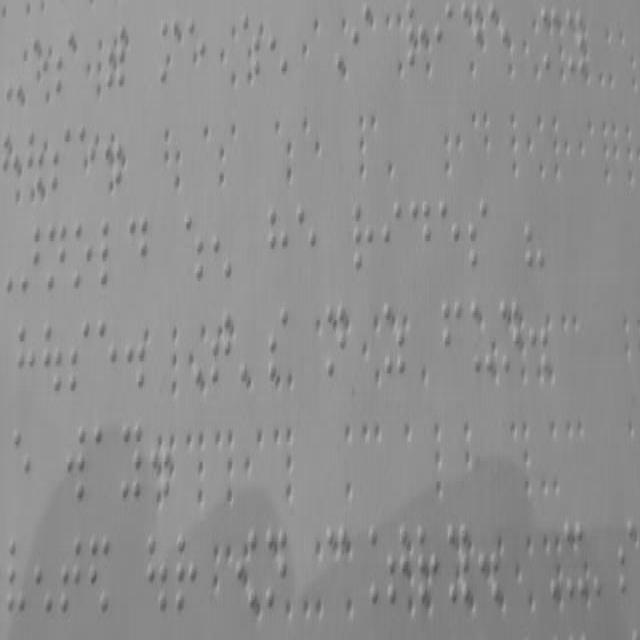braiile: (323, 526, 351, 616), (124, 209, 152, 298), (414, 520, 440, 609), (446, 520, 472, 609), (94, 417, 118, 512), (385, 523, 411, 610), (174, 526, 198, 616), (264, 524, 288, 614), (351, 192, 377, 274), (10, 424, 36, 506), (466, 195, 492, 276), (59, 528, 82, 619), (296, 195, 320, 282), (408, 190, 432, 276), (120, 416, 142, 508), (64, 420, 88, 504), (99, 208, 121, 299), (436, 195, 462, 272), (266, 201, 290, 283), (45, 215, 67, 302), (69, 317, 91, 399), (97, 312, 119, 394), (72, 215, 94, 296), (16, 314, 36, 402), (382, 195, 402, 272), (8, 534, 26, 616)
